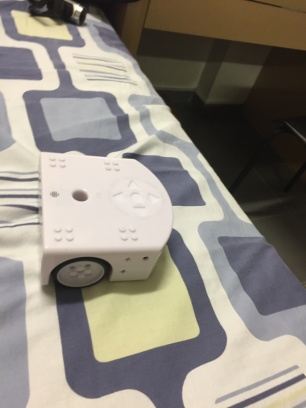thymio: (24, 136, 184, 304)
